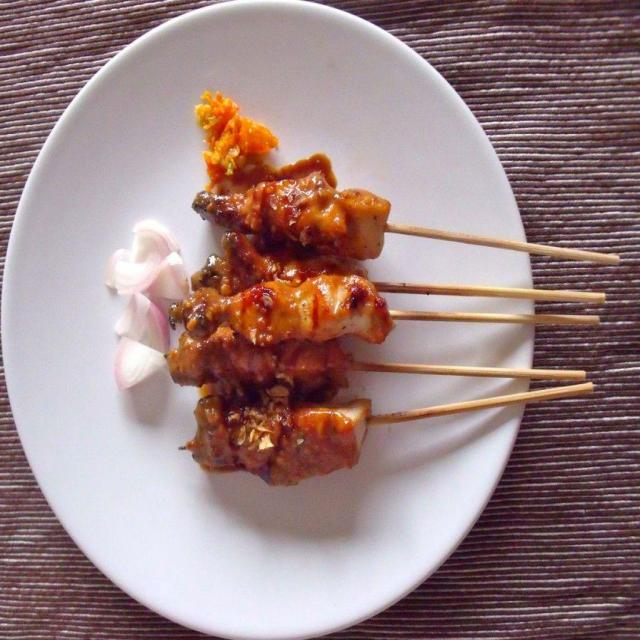Sate: (210, 167, 591, 467)
